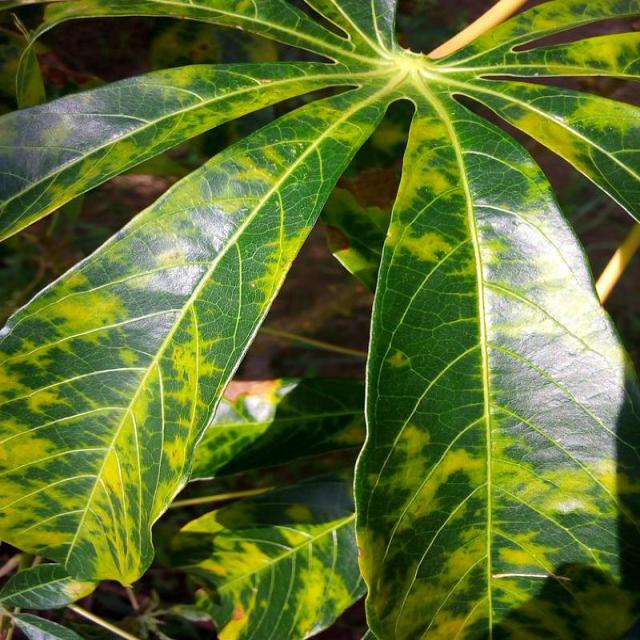cassava leaf: (0, 1, 638, 634), (351, 79, 638, 638)
